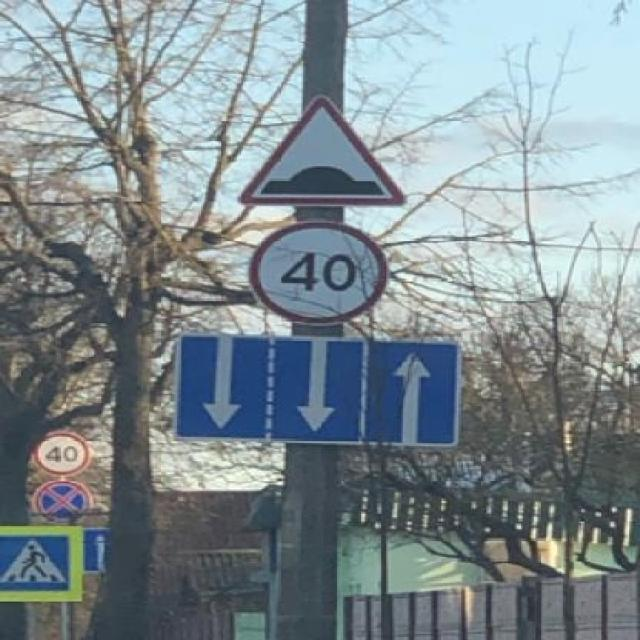forb_speed_over_40: (252, 225, 386, 325), (33, 431, 96, 478)
